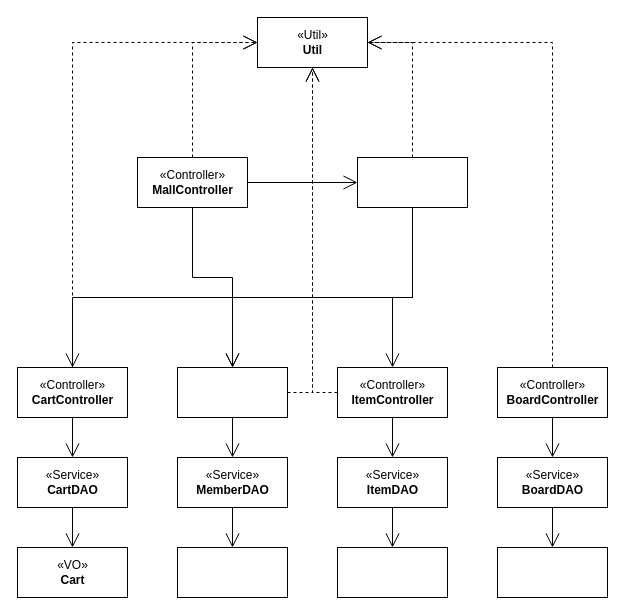
The diagram is 625 pixels wide and 615 high, and some of its shapes have lost their labels. Each missing label, with the box of its shape:
«Controller» AdminController: (356, 156, 468, 208)
«Controller» MemberController: (176, 366, 288, 418)
«VO» Board: (496, 546, 608, 598)
«VO» Item: (336, 546, 448, 598)
«VO» Member: (176, 546, 288, 598)
